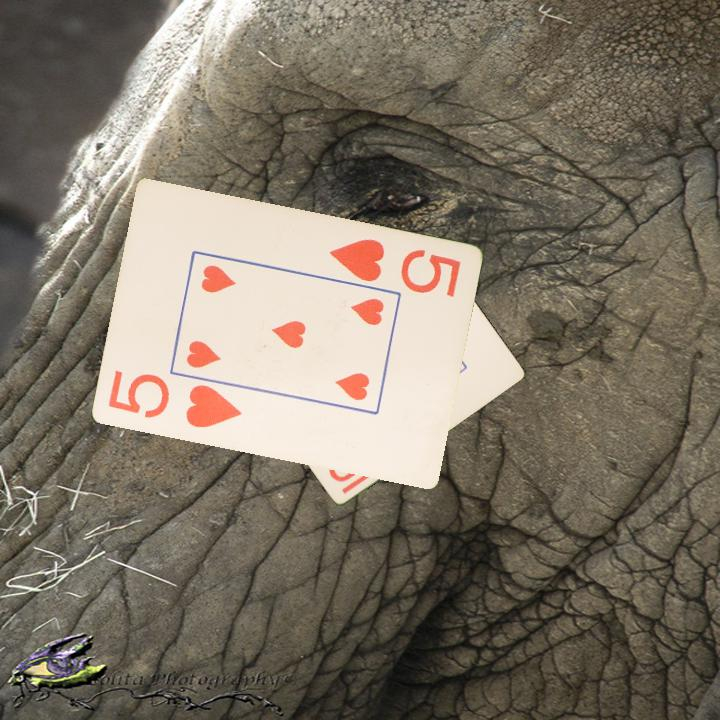5h: (104, 366, 244, 431), (325, 235, 463, 300)
